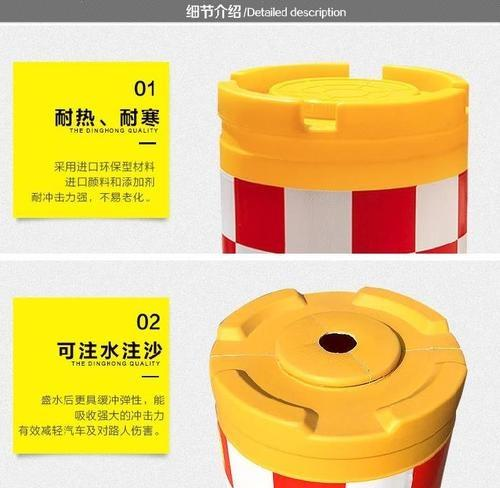cone_barrel: (206, 286, 460, 484), (221, 73, 474, 267)
